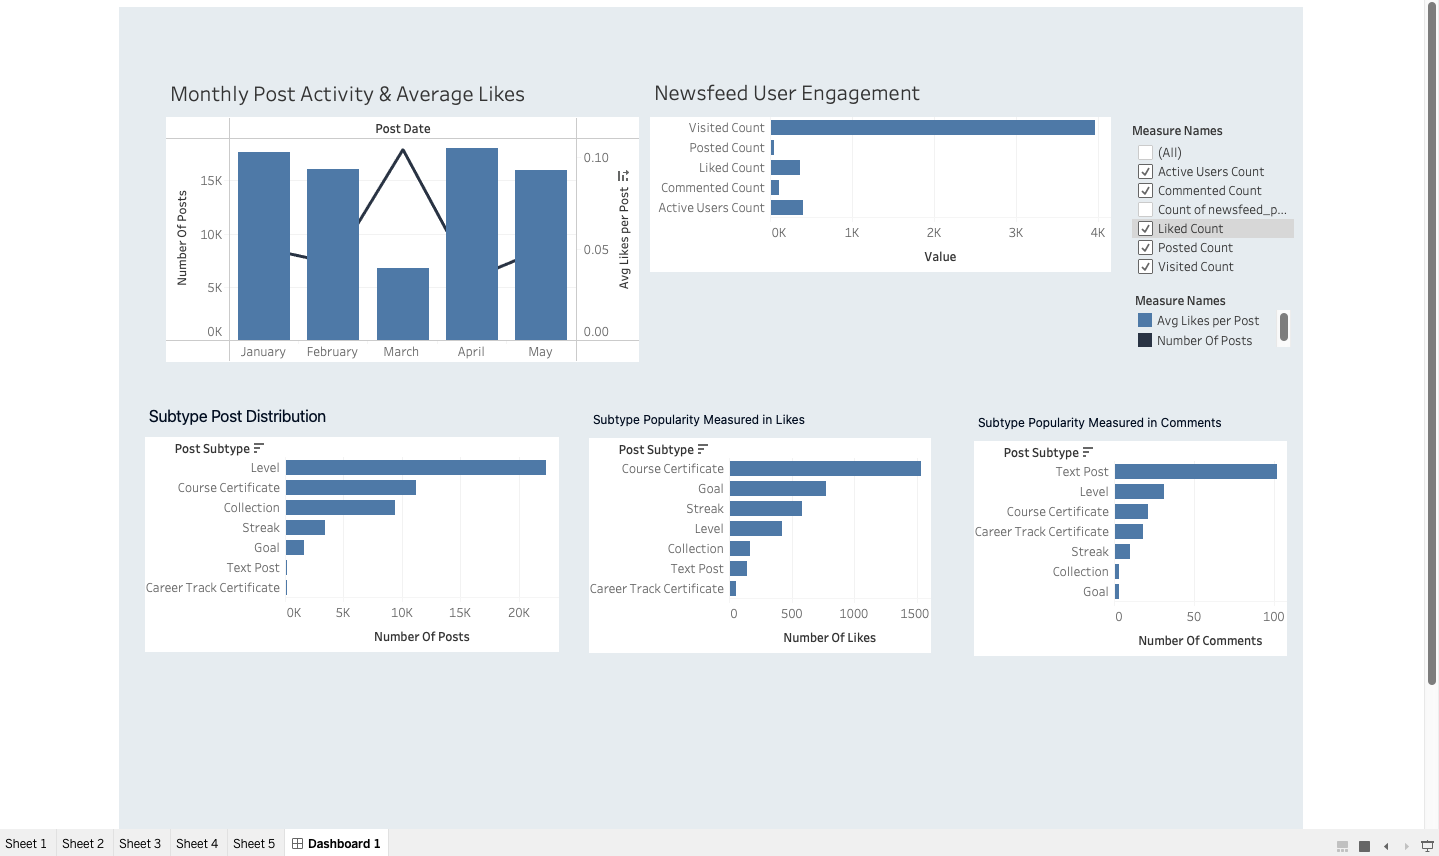

What the dashboard file says about the page in this screenshot:
{"tool":"tableau","page":{"name":"Dashboard 1","canvas":[1200,1000],"ordinal":0},"visuals":[{"type":"title","box":[8,8,1184,23]},{"type":"worksheet","title":"Sheet 5","mark":"Automatic","box":[538.8,75,460.8,275]},{"type":"worksheet","title":"Sheet 1","mark":"Line","rows":["number_of_posts","Calculation_445926792400756736"],"cols":["post_date"],"box":[55.2,76,474,287]},{"type":"filter","title":"Sheet 5","param":"[federated.1siwtvy06bbyo01e23a7m0aizfqq].[:Measure Names]","box":[1021.2,123,162,157]},{"type":"legend","title":"Sheet 1","param":"[federated.1u2n35i1xwz2qw16idjyf1kn14rl].[:Measure Names]","box":[1023.6,293,158.4,55]},{"type":"worksheet","title":"Sheet 2","mark":"Automatic","rows":["post_subtype"],"cols":["number_of_posts"],"box":[34,404,414,303]},{"type":"worksheet","title":"Sheet 3","mark":"Automatic","rows":["post_subtype"],"cols":["number_of_likes"],"box":[478,409,342,256]},{"type":"worksheet","title":"Sheet 4","mark":"Automatic","rows":["post_subtype"],"cols":["number_of_comments"],"box":[863,412,313,256]}]}

Visuals, with their boxes on the page's 1200x1000 design canvas (x1, y1, x2, y2). These are canvas units, not pixel positions in the 1439x856 screenshot, which may show the page scaled, cropped or inside an application window:
title: rect(8, 8, 1192, 31)
"Sheet 5" worksheet: rect(539, 75, 1000, 350)
"Sheet 1" worksheet (Line marks): rect(55, 76, 529, 363)
"Sheet 5" filter: rect(1021, 123, 1183, 280)
"Sheet 1" legend: rect(1024, 293, 1182, 348)
"Sheet 2" worksheet: rect(34, 404, 448, 707)
"Sheet 3" worksheet: rect(478, 409, 820, 665)
"Sheet 4" worksheet: rect(863, 412, 1176, 668)
